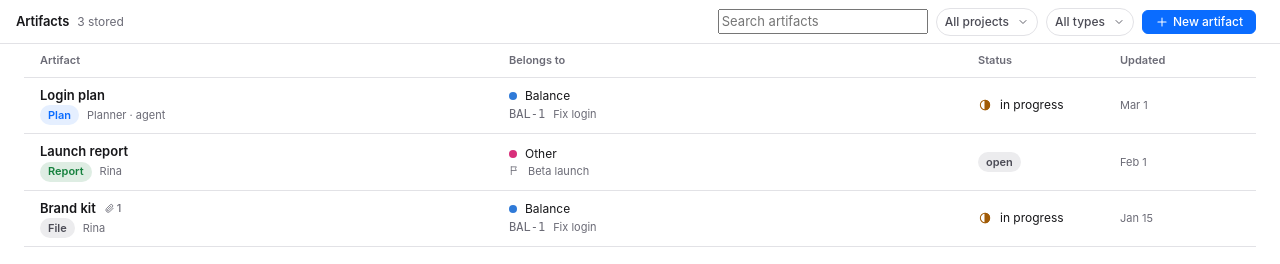
it: Artifacts list › right-click offers Open and a red Delete…
Right-click the element with class "arow" that starts with "Login plan" at (640, 106), box top-left (24, 78), bottom-right (1256, 134)
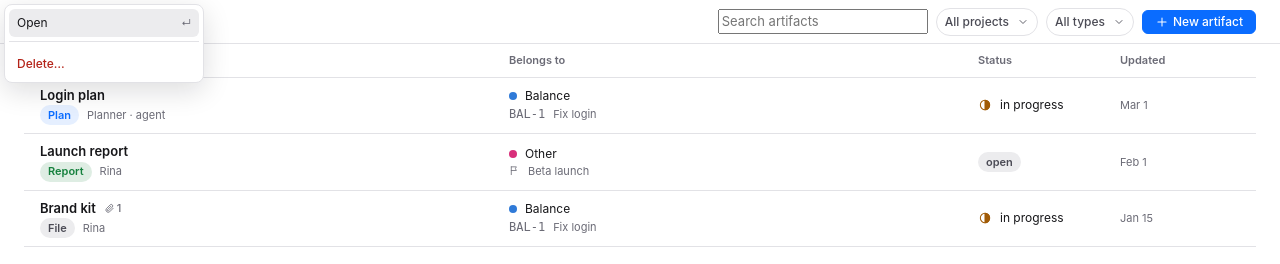
Expected: the menu item "Open ↵" is shown, top-left (9, 9), bottom-right (199, 37)
